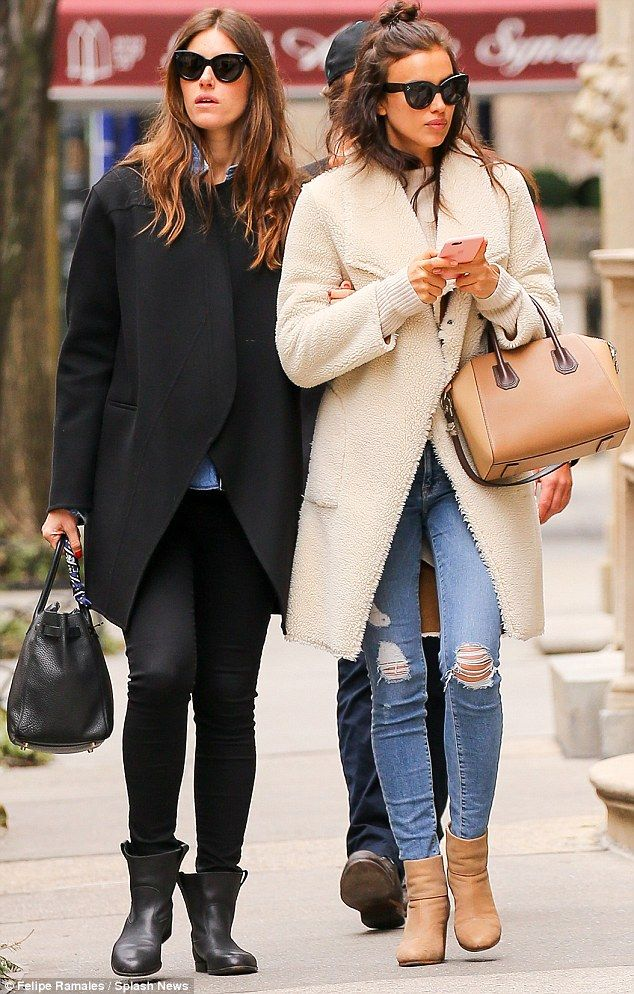Person: (272, 1, 634, 967), (3, 4, 357, 976)
